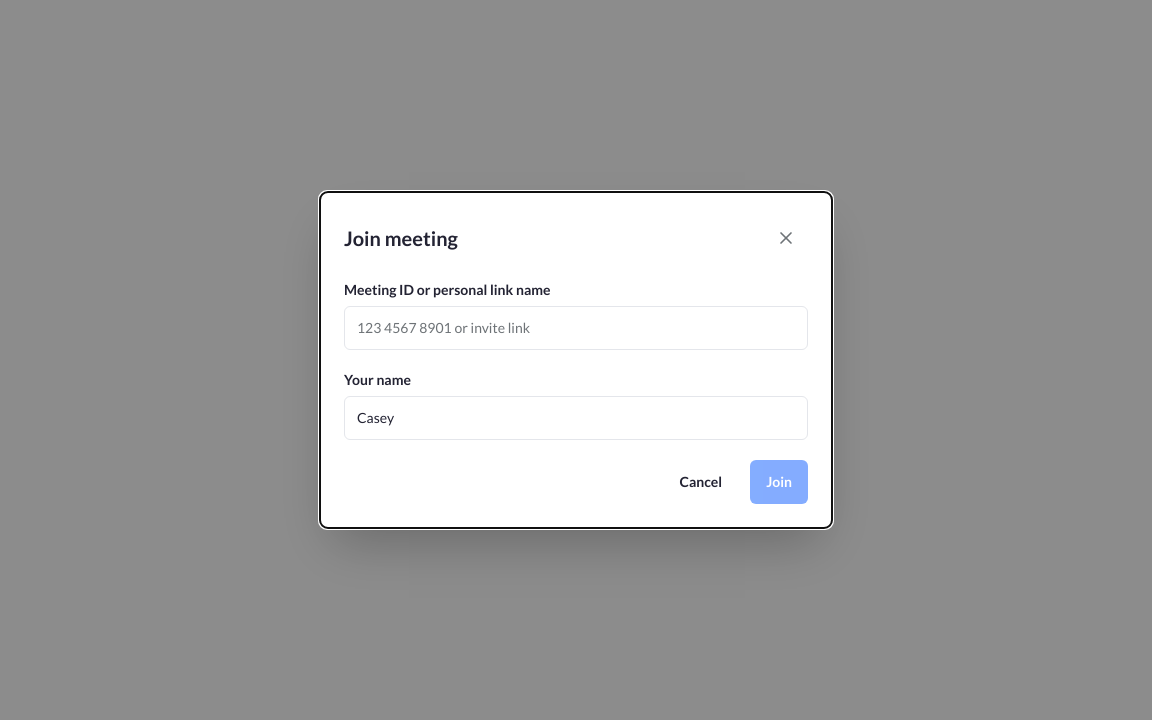
Test: JoinModal › shows an error for an unknown meeting ID
Type "12345678901" into the field labelled "Meeting ID or personal link name" at {"x": 576, "y": 328}, box [344, 306, 808, 350]
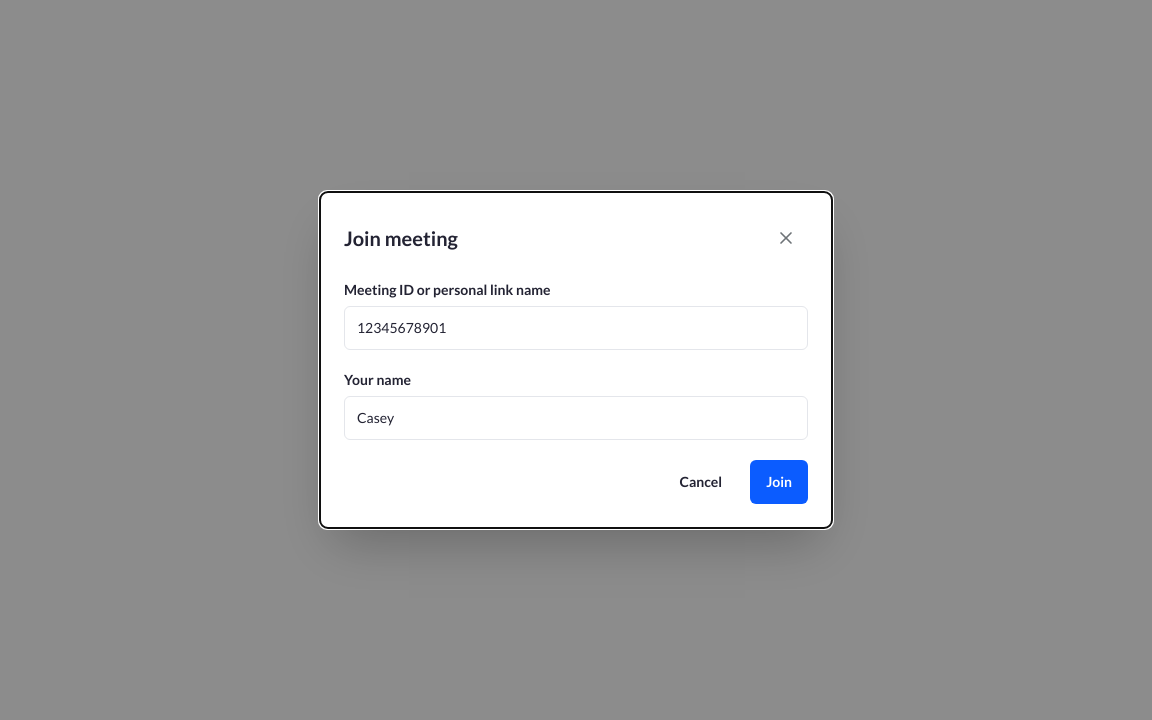
Click the button "Join" at {"x": 779, "y": 482}, box [750, 460, 808, 504]
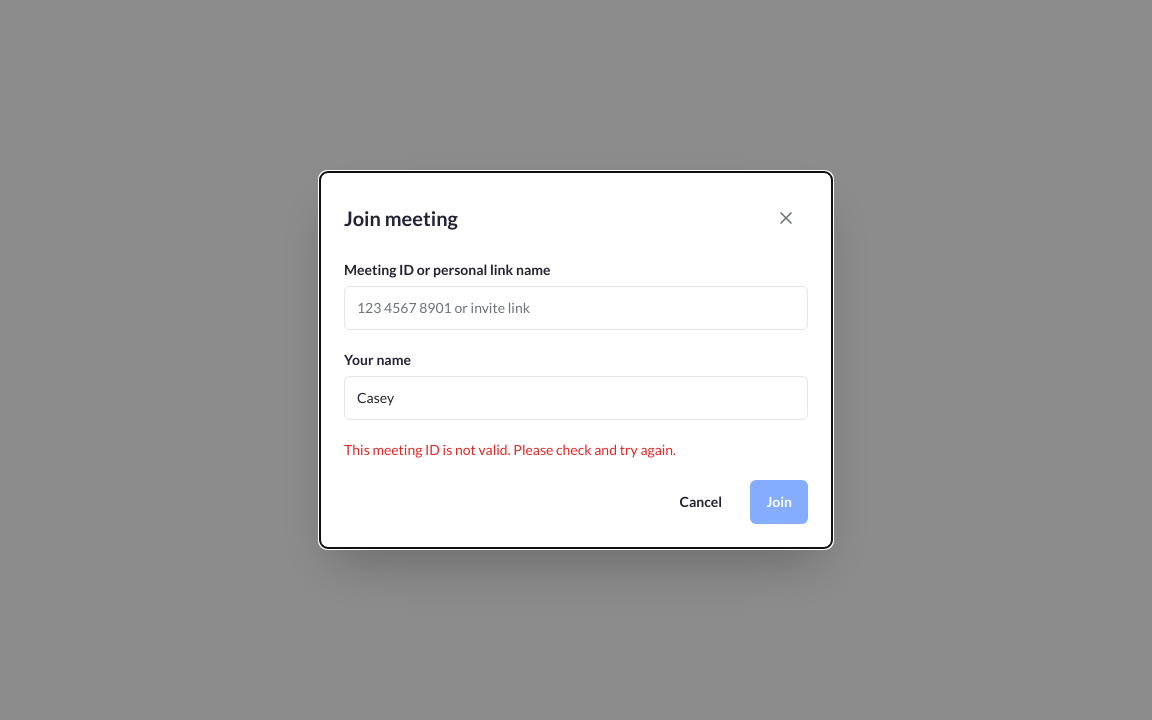
Expected: the message shows "This meeting ID is not valid", [344, 441, 676, 458]
